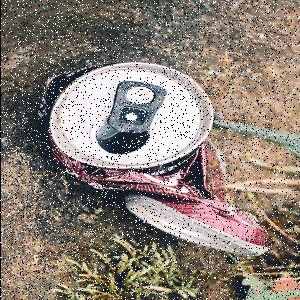Can: (34, 62, 273, 260)
